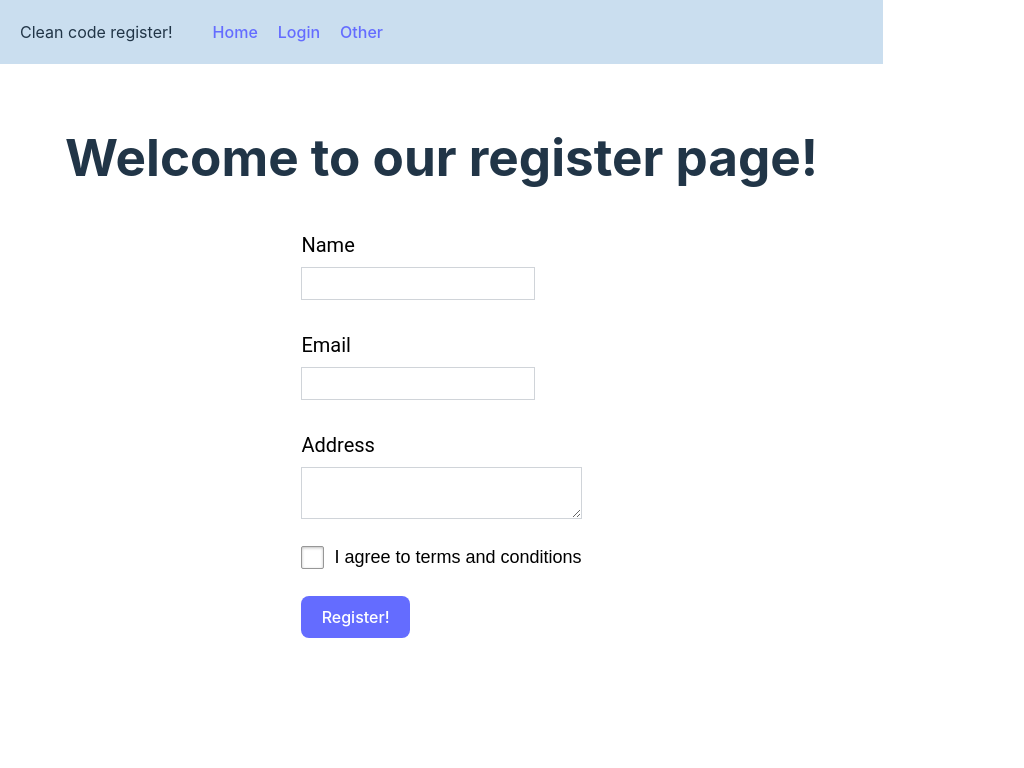
RegistrationPage › Renders success modal and then hides it
Step 1. Type "Joe" into the field labelled "Name" → (418, 284), box [302, 267, 536, 300]
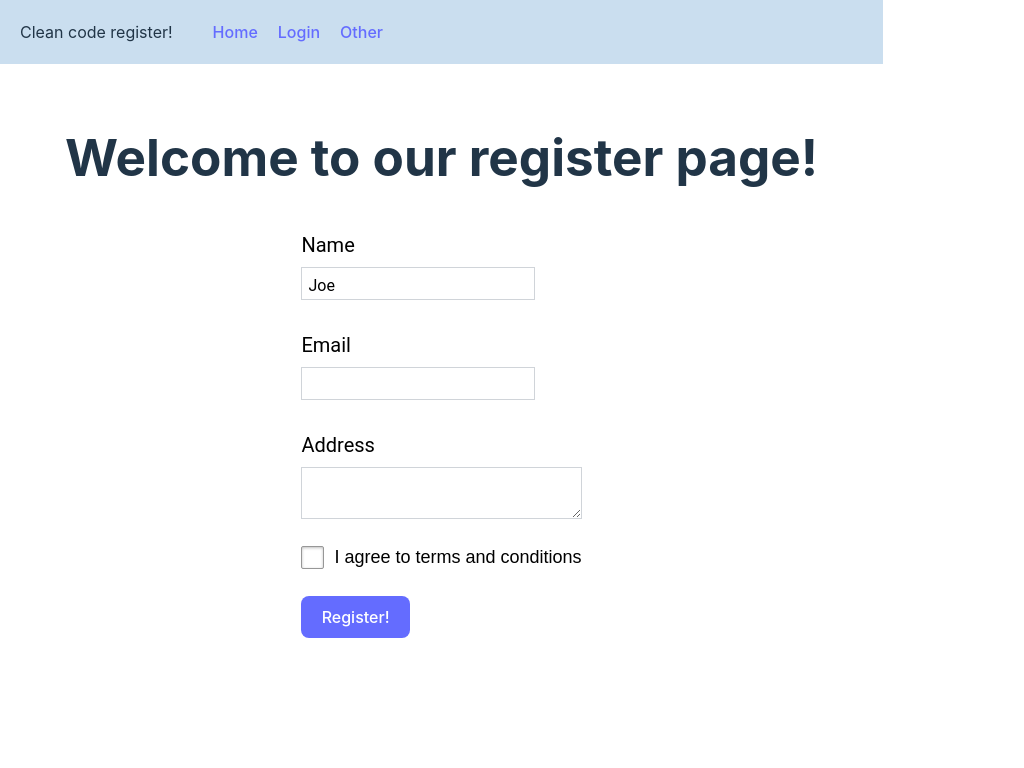
Step 2. Type "joe@test.com" into the field labelled "Email" → (418, 384), box [302, 367, 536, 400]
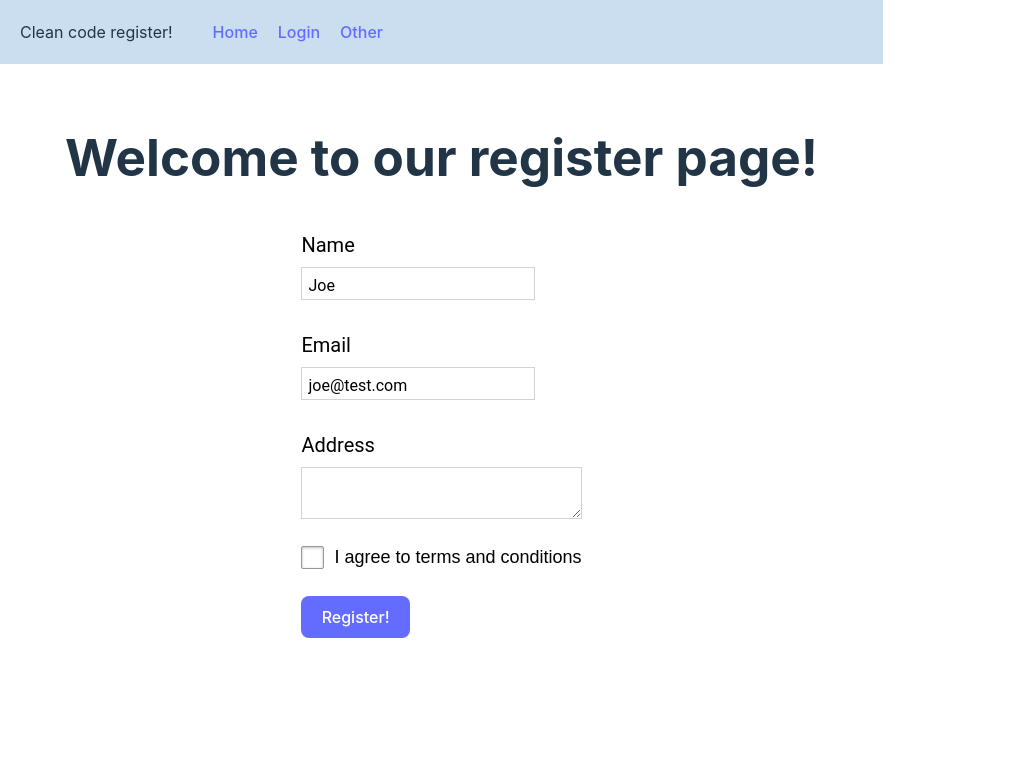
Step 3. Type "Kentucky Rd 12" into the text box labelled "Address" → (442, 493), box [302, 467, 582, 519]
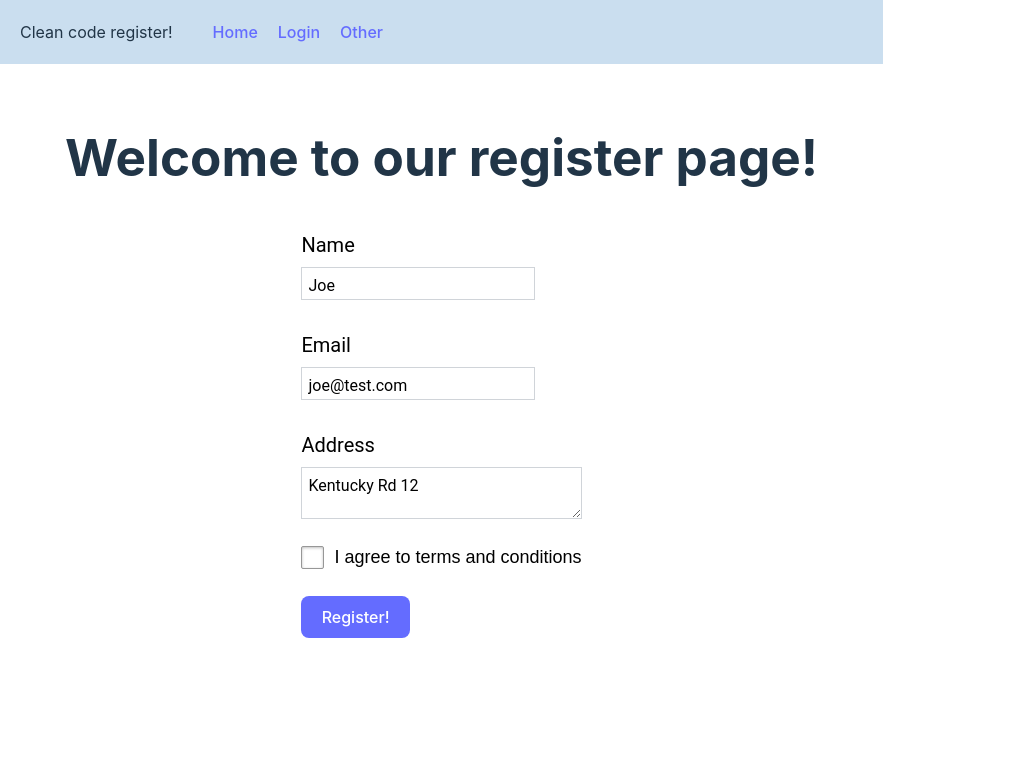
Step 4. Click the checkbox labelled "I agree to terms and conditions" → (313, 558), box [302, 546, 324, 569]
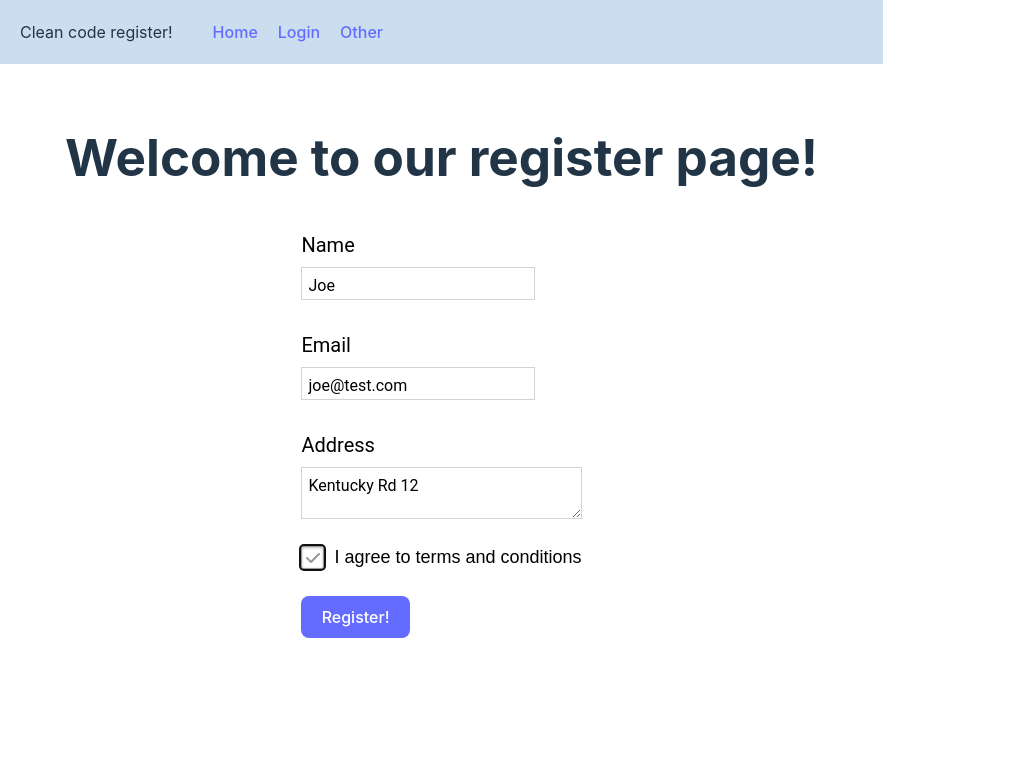
Step 5. Click the button "Register!" → (356, 617), box [302, 596, 410, 638]
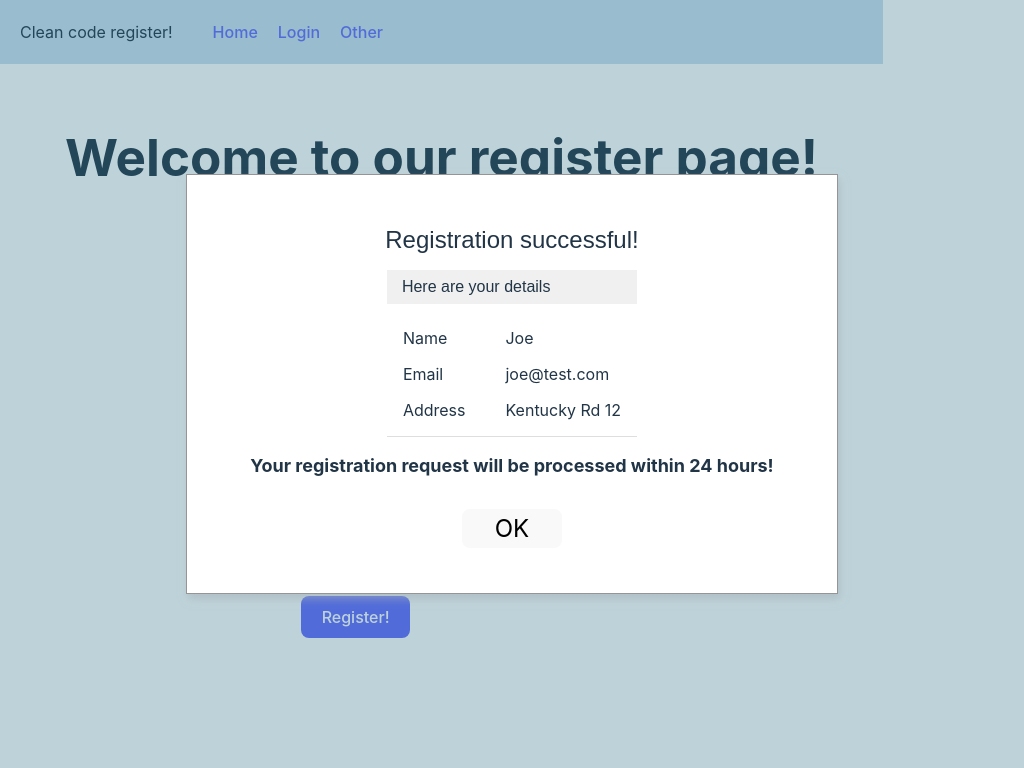
Check: the heading "Registration successful!" is shown, box [385, 225, 639, 254]
Check: the text "Here are your details" is shown, box [387, 270, 637, 304]
Check: the text "Your registration request will be processed within 24 hours!" is shown, box [250, 455, 774, 476]
Step 6. Click the button "Ok" → (512, 528), box [462, 509, 562, 548]
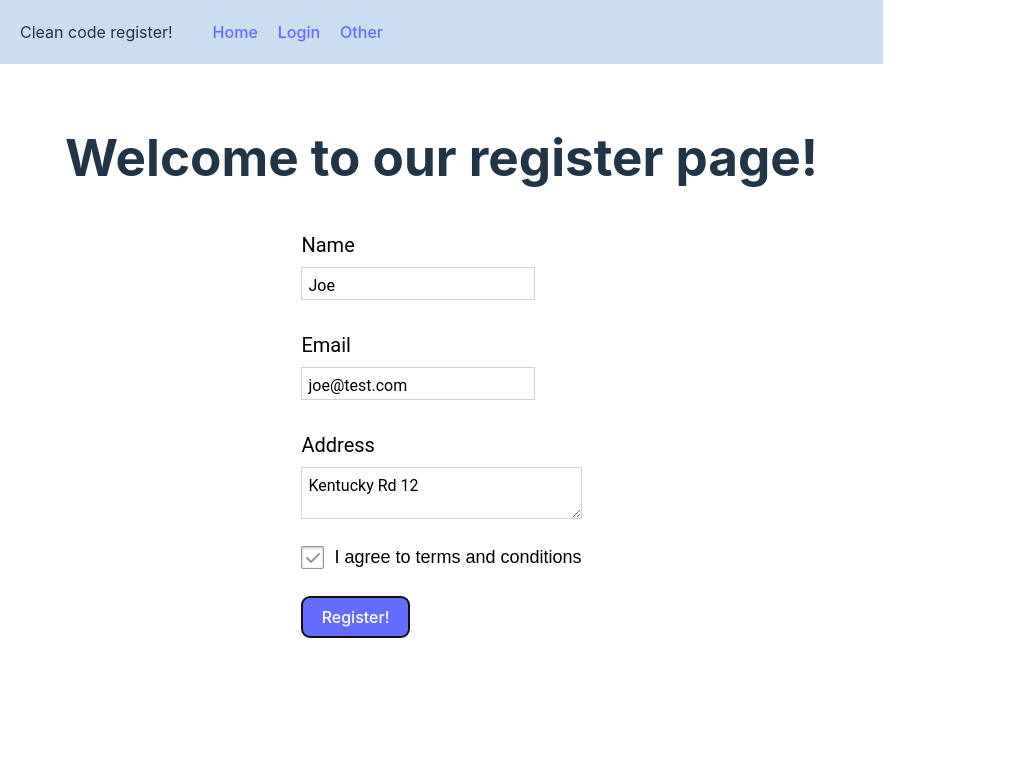
Check: the heading "Registration successful!" is gone
Check: the text "Here are your details" is gone
Check: the text "Your registration request will be processed within 24 hours!" is gone
